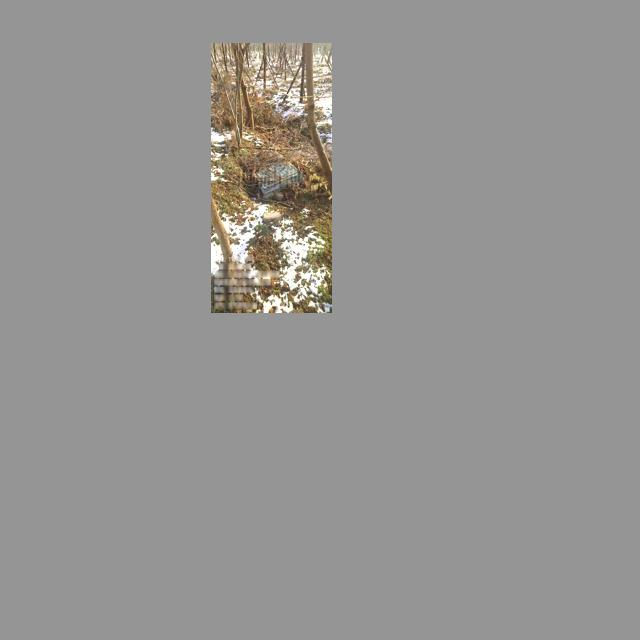circle: (240, 147, 303, 197)
